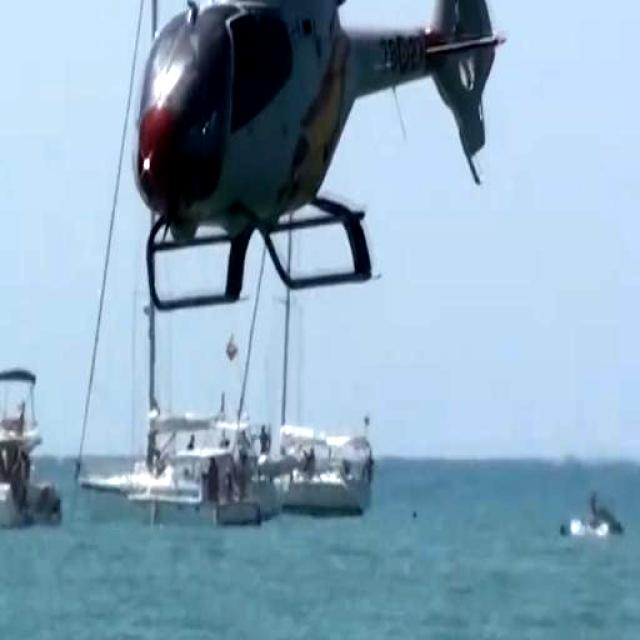drone: (98, 0, 550, 310)
